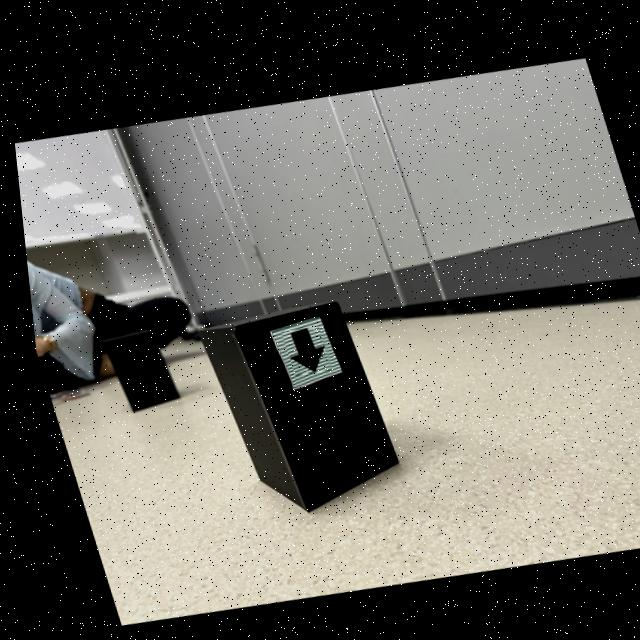DOWN: (282, 324, 318, 368)
